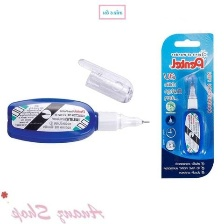book: (157, 31, 215, 183)
correction_fluid: (6, 97, 152, 145), (180, 74, 205, 156)
